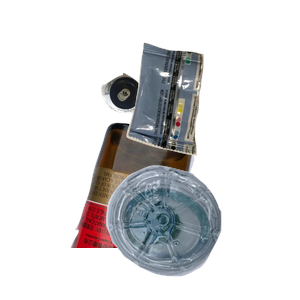glass: (68, 120, 255, 300)
metal: (99, 70, 236, 176)
plastic: (104, 163, 300, 300)
trash: (124, 40, 300, 188)
